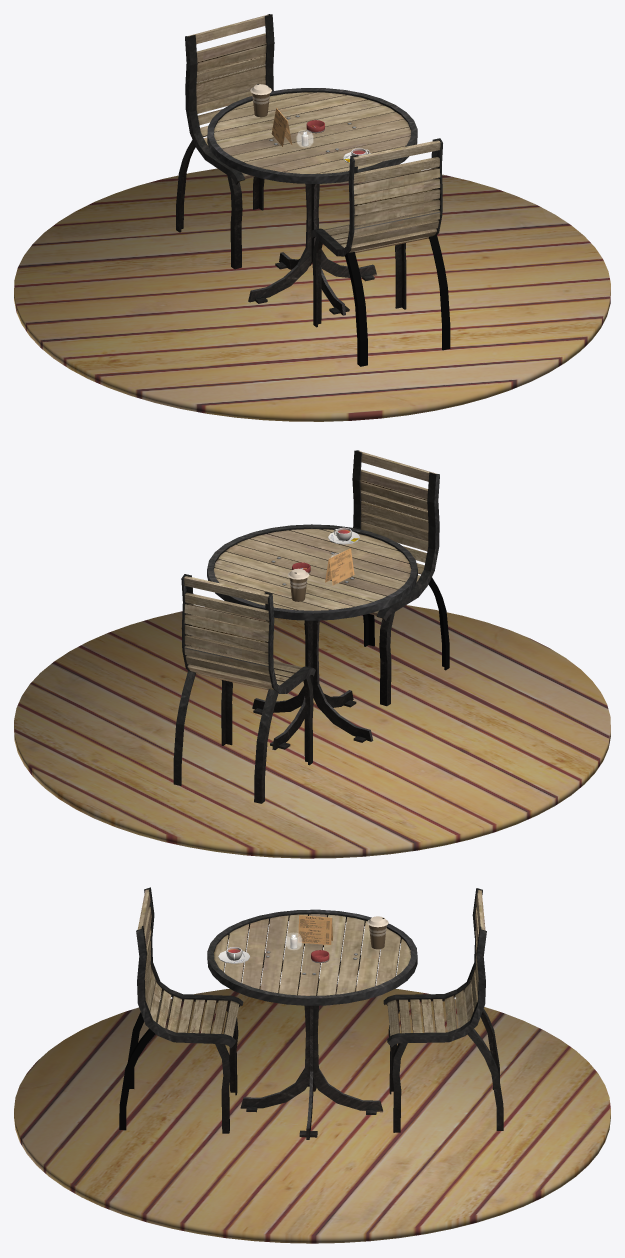
3 views of the same model, one above another, from view 1: azimuth 30°, elevation 25°; view 2: azimuth 150°, elevation 25°; view 3: azimuth 270°, elevation 25° (orthographic).
Visible parts, largest first — view 1: place, table, chair_1, chair_2; view 2: place, table, chair_2, chair_1, menu; view 3: place, table, chair_1, chair_2, menu, coffe -tall.
Boxes of the visible parts, box(x1,y1,x2,y2) form: place: box(14, 168, 610, 421); table: box(207, 88, 417, 315); chair_1: box(310, 138, 450, 366); chair_2: box(176, 14, 274, 269); place: box(14, 605, 610, 858); table: box(207, 524, 417, 749); chair_2: box(173, 574, 315, 803); chair_1: box(304, 450, 449, 706); menu: box(325, 548, 354, 585); place: box(14, 984, 610, 1243); table: box(207, 909, 417, 1139); chair_1: box(119, 887, 243, 1133); chair_2: box(383, 888, 503, 1132); menu: box(298, 915, 332, 946); coffe -tall: box(367, 916, 388, 949).
Size of the model in its own units: 3.68 by 1.42 by 3.68.
14 materials, 13 textured.
